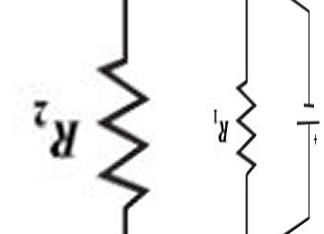Battery: (284, 90, 321, 150)
